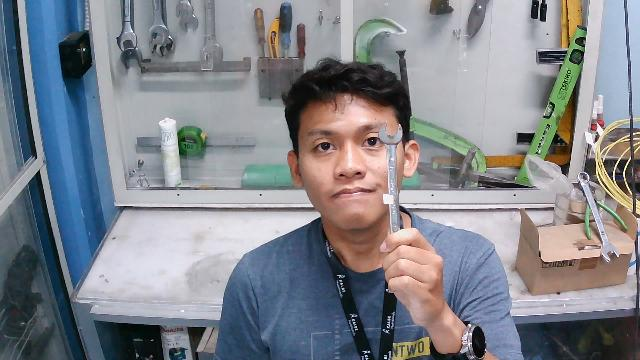kunci_pass_13: (369, 121, 449, 314)
